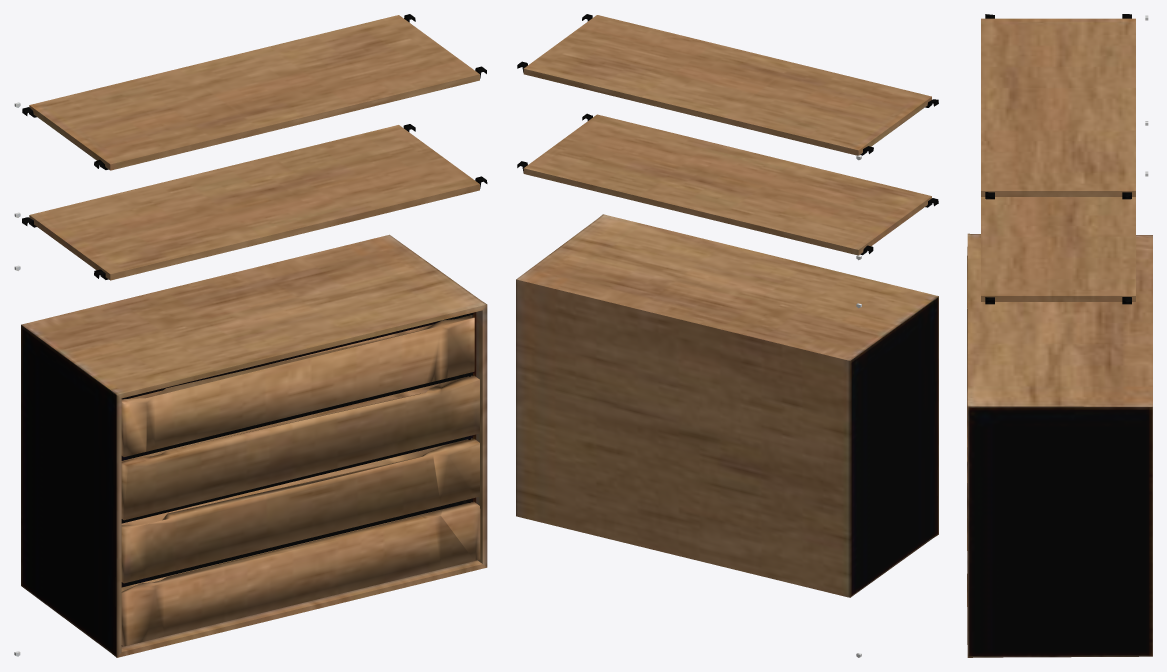
The model's file is drawer_cabinet.glb.
The picture shows the model from 3 angles, left to right: view 1: azimuth 30°, elevation 25°; view 2: azimuth 150°, elevation 25°; view 3: azimuth 270°, elevation 25°; orthographic projection. The views are drawn at different scales.
Visible parts, largest first — view 1: drawer_cabinet, drawer_cabinet_drawer_03, drawer_cabinet_drawer_02, drawer_cabinet_drawer_04, drawer_cabinet_drawer_01; view 2: drawer_cabinet; view 3: drawer_cabinet.
Boxes of the visible parts, left/top/right/bottom form: drawer_cabinet: left=14, top=14, right=487, bottom=657; drawer_cabinet_drawer_03: left=121, top=439, right=479, bottom=583; drawer_cabinet_drawer_02: left=121, top=375, right=479, bottom=520; drawer_cabinet_drawer_04: left=121, top=502, right=480, bottom=646; drawer_cabinet_drawer_01: left=121, top=315, right=474, bottom=456; drawer_cabinet: left=516, top=14, right=938, bottom=657; drawer_cabinet: left=967, top=14, right=1152, bottom=657.
Size of the model in its own units: 1.13 by 1.54 by 0.4881.
Materials: 1 (1 with a texture image).
